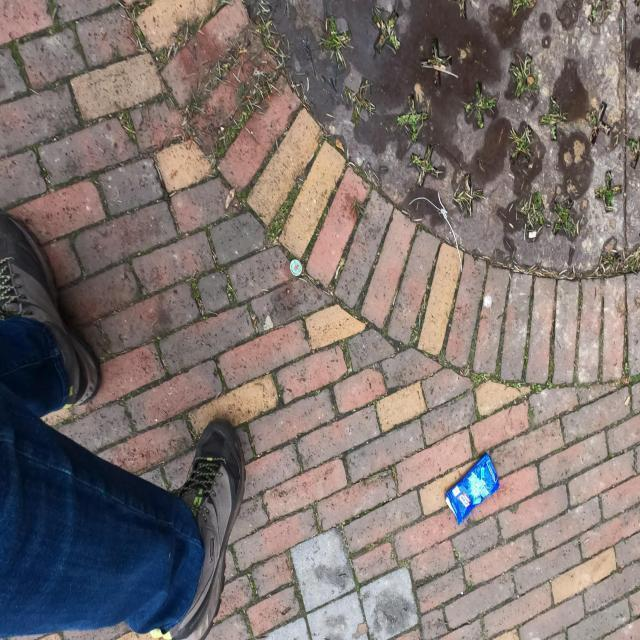Plastic: (444, 451, 501, 526)
